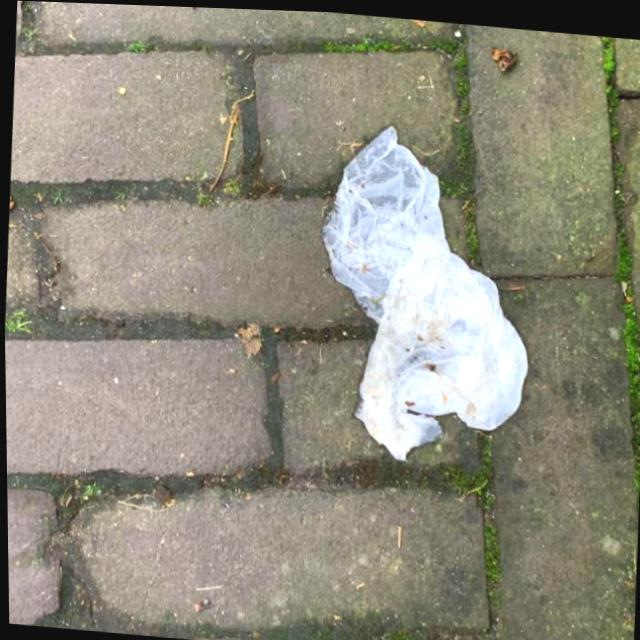Paper: (303, 112, 543, 472)
